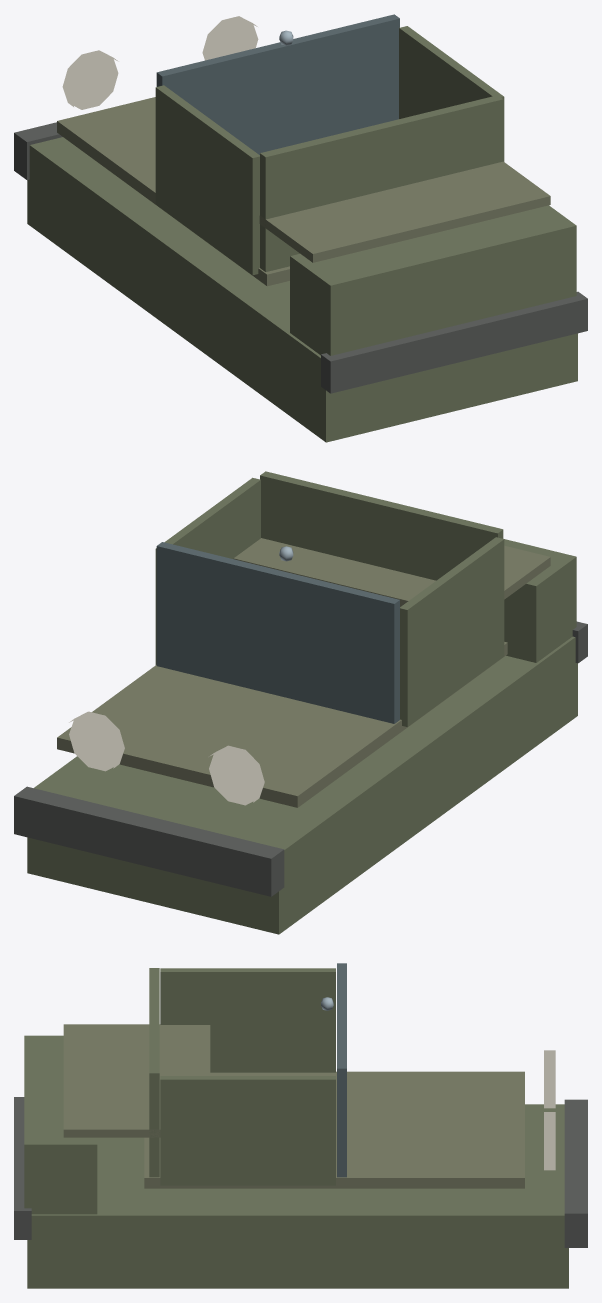
The model's file is v_uaz.glb.
3 renders of one model, top to bottom at view 1: azimuth 30°, elevation 25°; view 2: azimuth 150°, elevation 25°; view 3: azimuth 270°, elevation 25°, orthographic. The views are drawn at different scales.
Visible parts, largest first — view 1: body; view 2: body; view 3: body.
Part boxes in pixels (<box>): body: <box>14,14,587,442</box>; body: <box>14,471,587,934</box>; body: <box>14,963,587,1288</box>.
Size of the model in its own units: 1.84 by 1.77 by 3.92.
